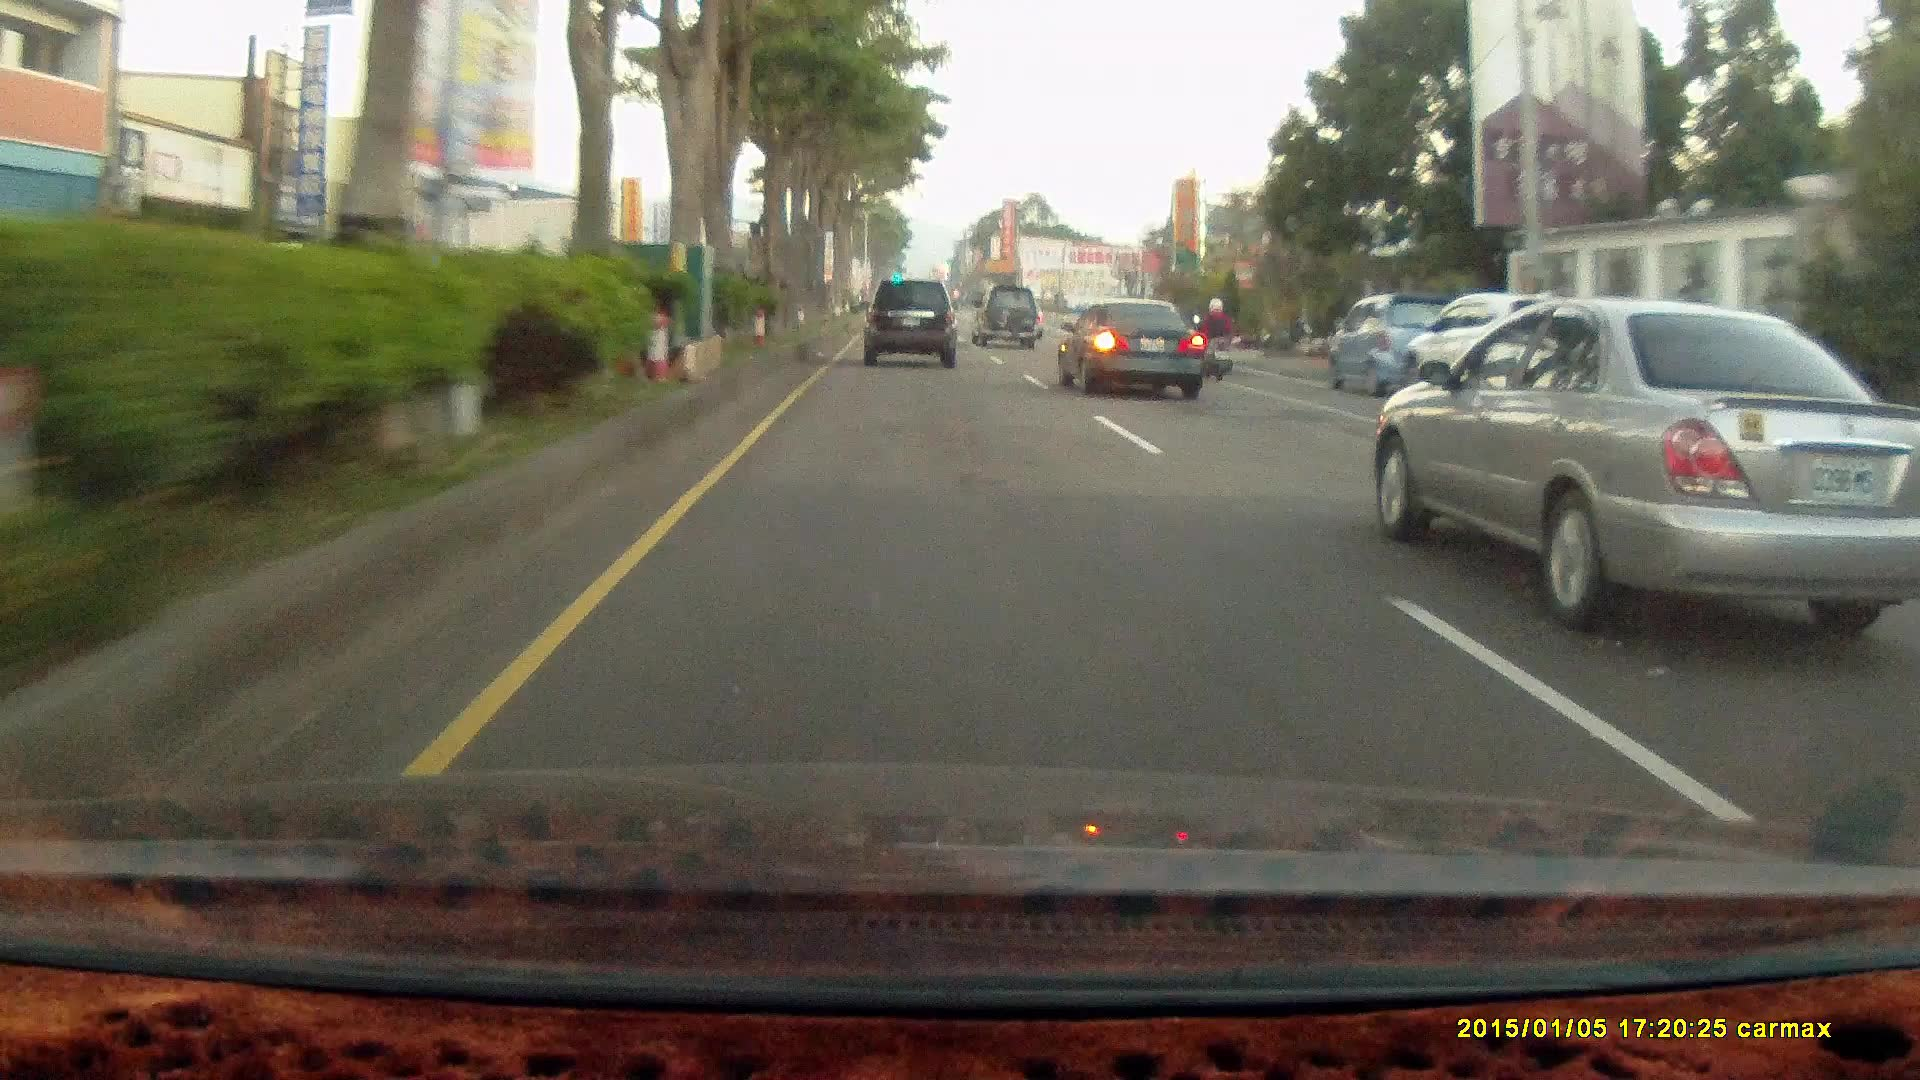rider: (1196, 296, 1237, 382)
vehicle: (1373, 299, 1920, 626), (1397, 294, 1586, 403), (1060, 293, 1210, 401), (1055, 295, 1206, 396), (1324, 294, 1470, 393), (860, 272, 965, 369), (859, 277, 957, 366), (972, 284, 1044, 351), (971, 282, 1039, 346)
